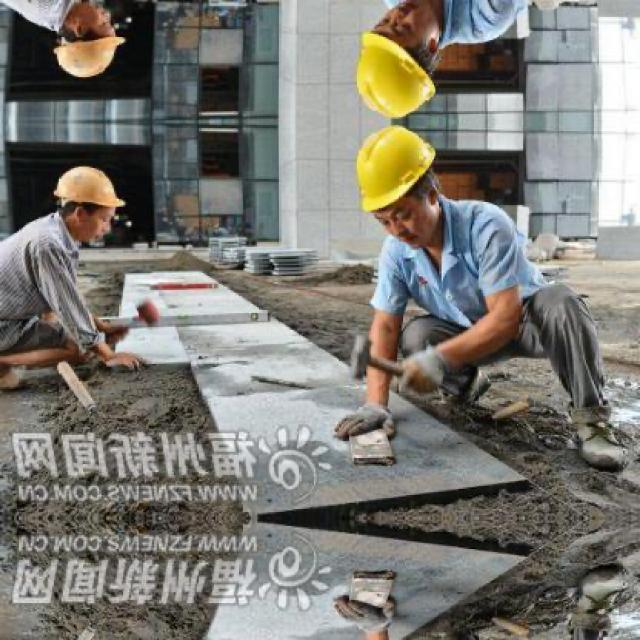con casco: (318, 124, 445, 261), (29, 176, 174, 238), (360, 22, 470, 102), (49, 10, 143, 81)
